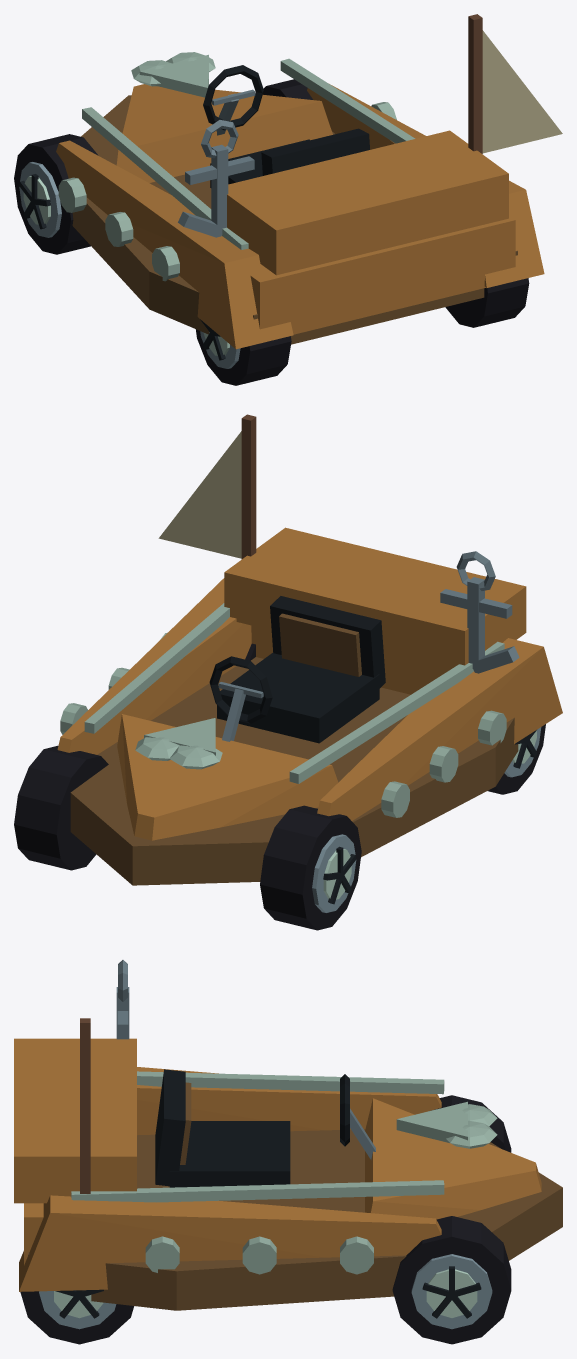
File: kart.glb
3 renders of one model, top to bottom at view 1: azimuth 30°, elevation 25°; view 2: azimuth 150°, elevation 25°; view 3: azimuth 270°, elevation 25°, orthographic. The views are drawn at different scales.
Visible parts, largest first — view 1: identity-ship-ship-pointed-bow-and-raised-stern, identity-ship-motif-sail, wheel-front-left, identity-ship-driver-cockpit, wheel-rear-left, identity-ship-motif-anchor, identity-ship-motif-heart, wheel-rear-right, wheel-front-right; view 2: identity-ship-ship-pointed-bow-and-raised-stern, identity-ship-driver-cockpit, wheel-front-left, identity-ship-motif-sail, wheel-front-right, identity-ship-motif-anchor, identity-ship-motif-heart, wheel-rear-left; view 3: identity-ship-ship-pointed-bow-and-raised-stern, identity-ship-driver-cockpit, wheel-front-right, wheel-rear-right, identity-ship-motif-heart, identity-ship-motif-sail, identity-ship-motif-anchor, wheel-front-left.
Boxes of the visible parts, x1,y1,x2,y2 form: identity-ship-ship-pointed-bow-and-raised-stern: (56,58,544,349); identity-ship-motif-sail: (468,14,562,153); wheel-front-left: (14,134,98,254); identity-ship-driver-cockpit: (203,65,369,187); wheel-rear-left: (196,319,291,385); identity-ship-motif-anchor: (178,120,254,237); identity-ship-motif-heart: (131,52,215,97); wheel-rear-right: (445,278,529,327); wheel-front-right: (263,79,312,99); identity-ship-ship-pointed-bow-and-raised-stern: (57,527,562,885); identity-ship-driver-cockpit: (209,596,385,743); wheel-front-left: (260,805,361,930); identity-ship-motif-sail: (158,414,256,559); wheel-front-right: (14,745,108,870); identity-ship-motif-anchor: (440,551,519,673); identity-ship-motif-heart: (135,718,222,769); wheel-rear-left: (488,724,545,794); identity-ship-ship-pointed-bow-and-raised-stern: (14,1038,562,1310); identity-ship-driver-cockpit: (155,1069,375,1187); wheel-front-right: (392,1216,511,1344); wheel-rear-right: (20,1289,134,1344); identity-ship-motif-heart: (396,1101,497,1148); identity-ship-motif-sail: (80,1018,90,1193); identity-ship-motif-anchor: (116,960,129,1039); wheel-front-left: (431,1095,511,1152).
Size of the model in its own units: 2.24 by 1.74 by 2.77.
